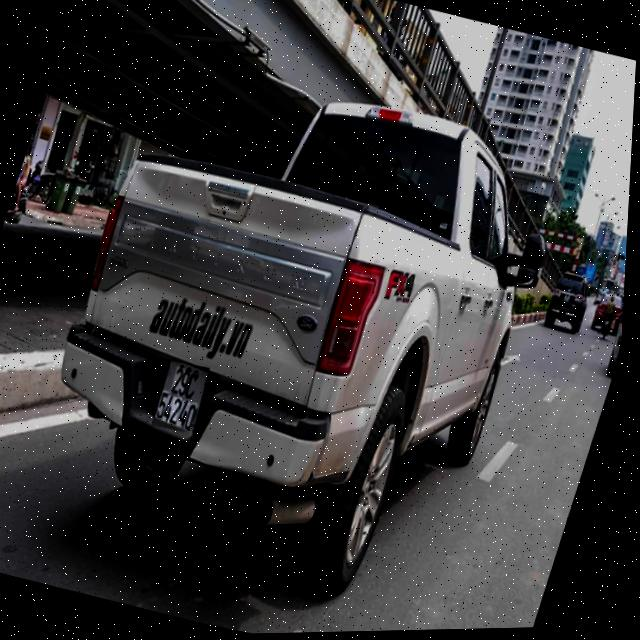car: (8, 30, 609, 617), (536, 263, 600, 338)
plate: (139, 354, 217, 438)
